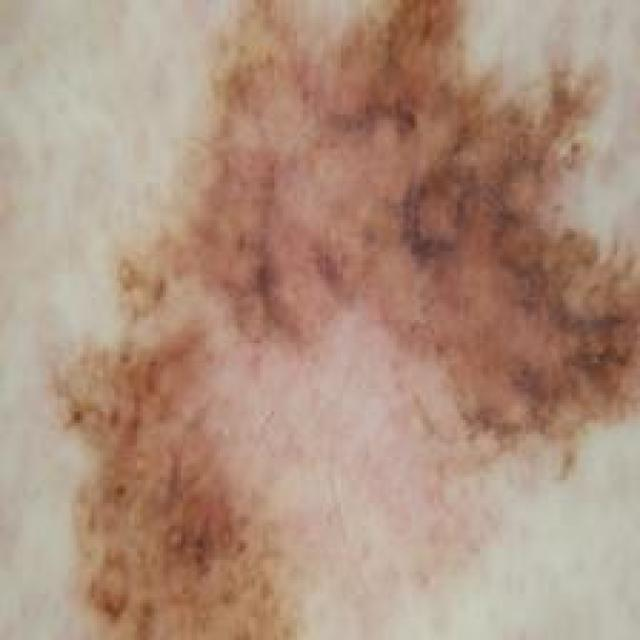Cancer: (46, 1, 637, 638)
